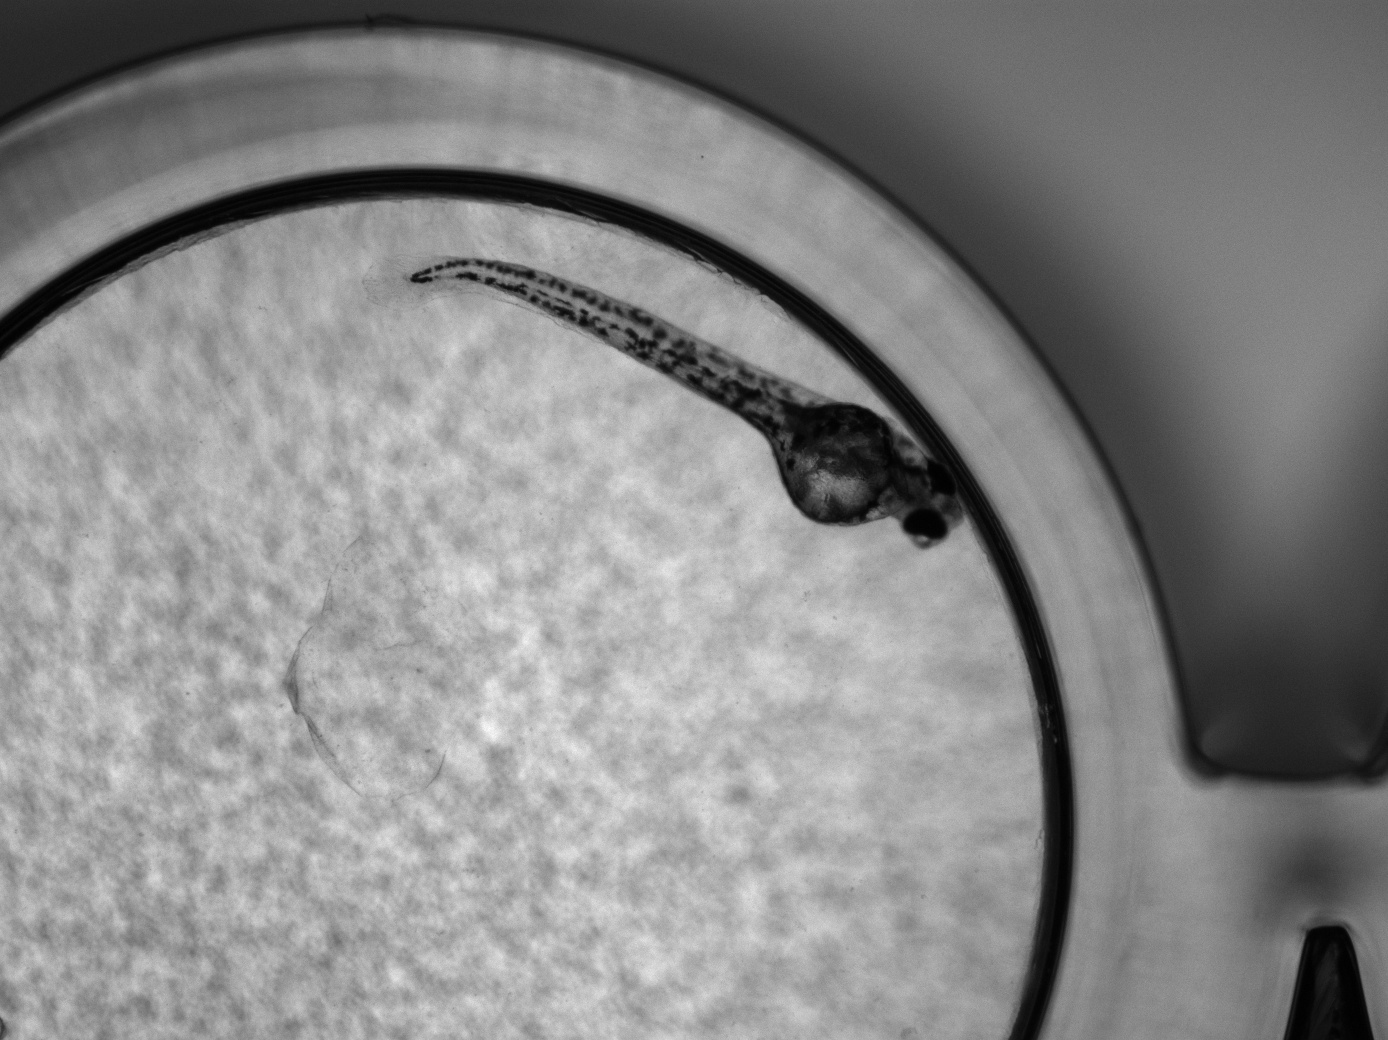debris: (282, 532, 447, 804)
embryo: (410, 256, 966, 552)
eye: (904, 508, 947, 539), (927, 460, 956, 496)
yolksac: (782, 402, 895, 528)
